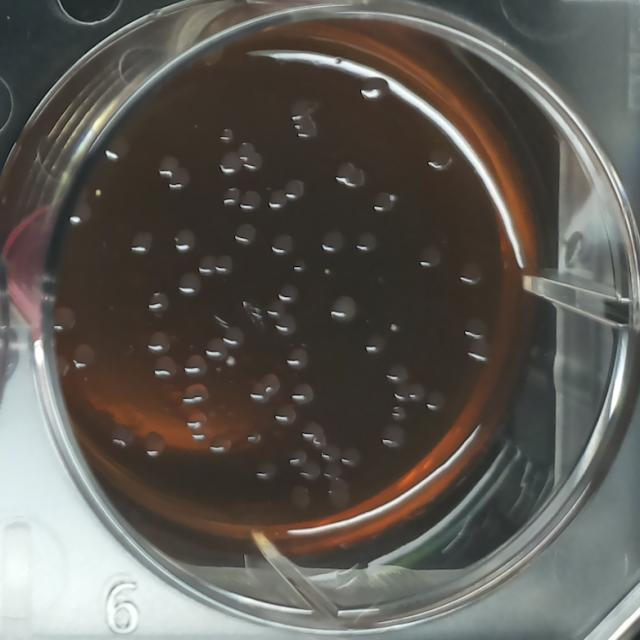Bacillus: (326, 292, 358, 326)
Staphylococcus: (224, 354, 237, 368), (388, 321, 399, 334), (93, 188, 104, 200), (323, 266, 331, 276)
